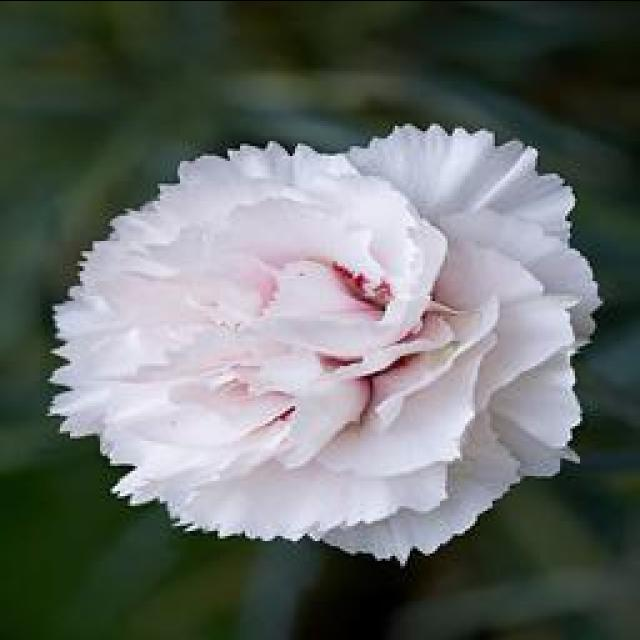carnation: (38, 79, 602, 582)
